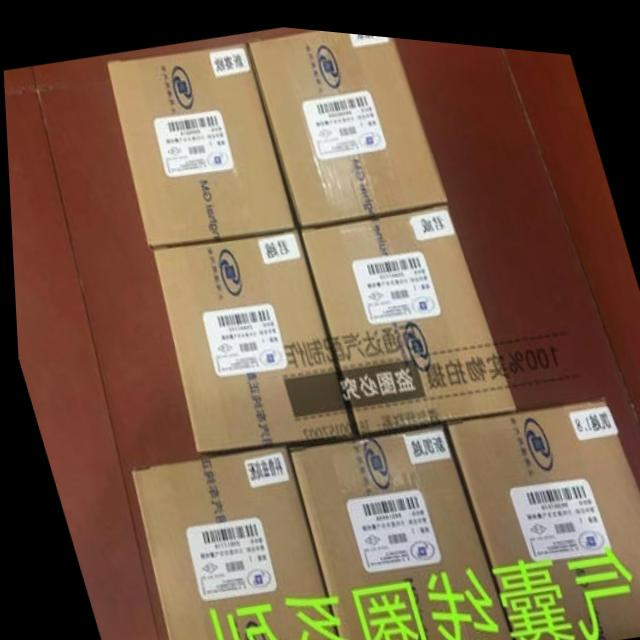box: (295, 195, 513, 429), (442, 386, 640, 640), (286, 416, 510, 640), (148, 221, 352, 448), (126, 438, 331, 640), (102, 38, 293, 245), (245, 24, 445, 216)
